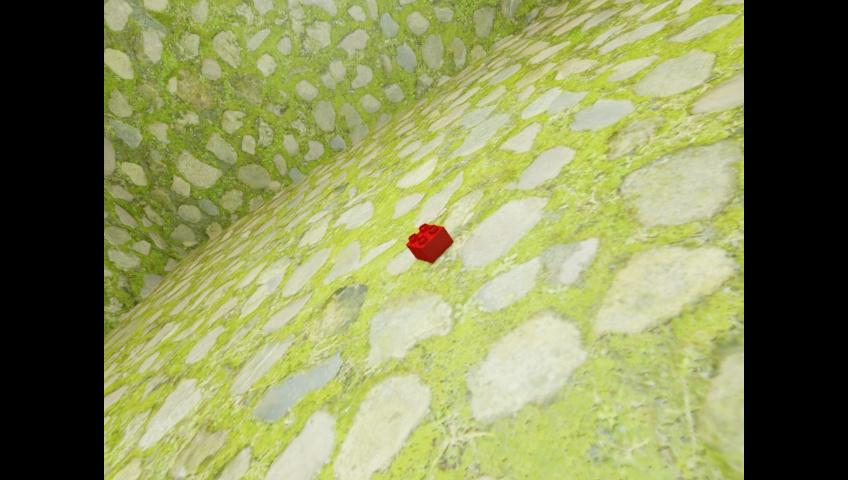2x2_red: (405, 222, 453, 262)
